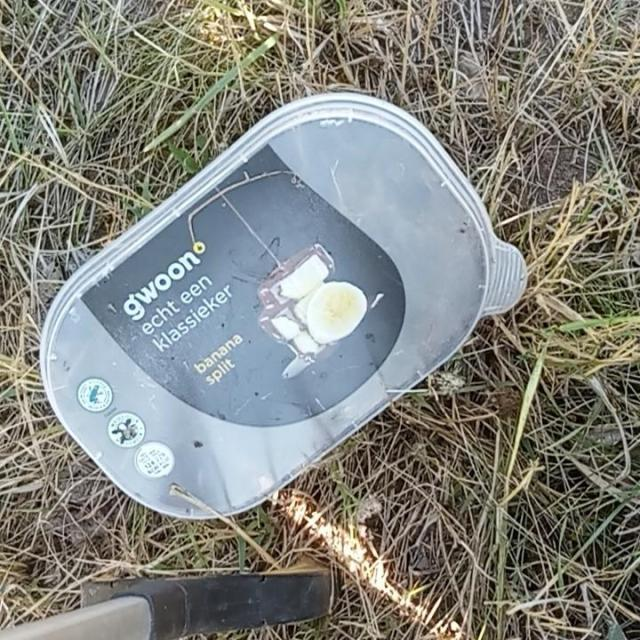Paper: (34, 88, 532, 522)
